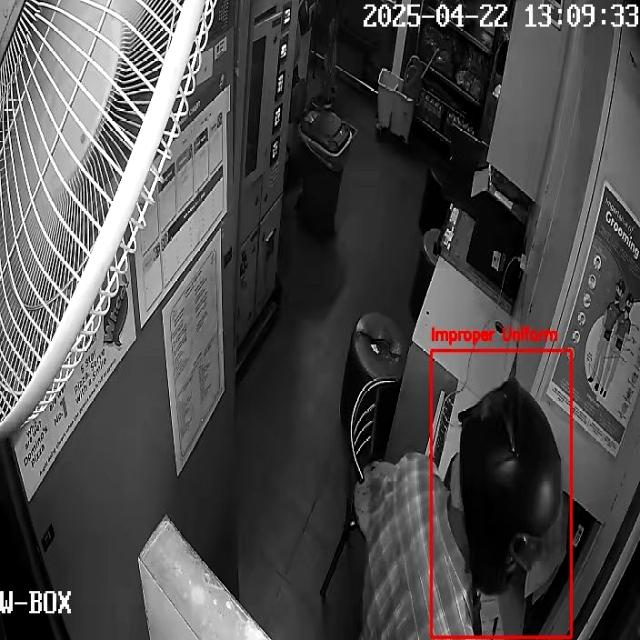helmet: (459, 378, 564, 598)
